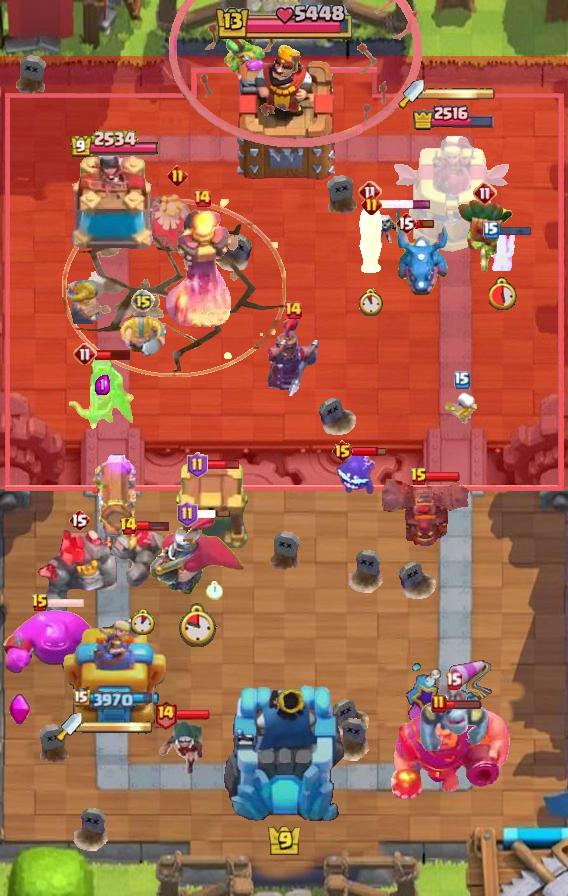archer-evolution: (382, 479, 476, 549)
bar: (391, 132, 515, 256), (61, 615, 166, 731)
barbarian-hut: (66, 357, 138, 431)
battle-healer: (91, 454, 137, 558)
bomb: (175, 463, 253, 551)
cannoneer-tower: (34, 526, 124, 628)
clock: (213, 5, 355, 43)
clone: (0, 608, 110, 682)
electro-dragon: (163, 208, 241, 334)
electro-spirit: (94, 375, 109, 395)
elixir: (179, 603, 217, 647), (490, 278, 518, 310), (356, 288, 383, 317), (131, 609, 155, 635), (206, 581, 223, 599)
elixir-golem-big: (266, 315, 320, 401)
elixir-golem-small: (416, 683, 490, 751)
emote: (380, 199, 433, 210), (95, 347, 132, 360), (47, 597, 84, 609), (425, 471, 461, 483), (175, 709, 211, 721), (497, 224, 532, 236), (352, 445, 387, 457), (445, 698, 482, 709), (204, 458, 240, 469), (136, 520, 169, 532), (195, 509, 231, 519), (415, 218, 435, 230)
executioner: (354, 202, 386, 276)
giant-snowball: (217, 34, 265, 78)
goblin-barrel: (455, 197, 515, 273)
goblin-giant: (119, 315, 167, 357), (65, 279, 101, 326)
graveyard: (393, 223, 451, 297)
guard: (62, 199, 286, 378)
heal-spirit: (489, 229, 517, 271), (371, 205, 400, 245), (445, 391, 479, 425)
king-tower: (221, 682, 347, 826), (230, 43, 338, 181)
king-tower-bar: (424, 87, 496, 101), (82, 720, 154, 734)
lightning: (388, 703, 511, 803)
mortar-evolution: (146, 189, 208, 249)
queen-tower: (68, 156, 160, 256)
selected: (68, 129, 159, 158), (411, 103, 495, 131), (73, 687, 155, 709)
skeleton-barrel: (169, 0, 424, 148)
skeleton-king-skill: (8, 693, 32, 728)
spear-goblin: (333, 451, 375, 497)
tesla: (159, 720, 207, 776)
text: (154, 699, 179, 729), (358, 180, 382, 204), (473, 181, 497, 205), (131, 289, 155, 313), (73, 342, 97, 366), (331, 439, 354, 463), (188, 452, 209, 478), (178, 501, 199, 527), (395, 211, 417, 235), (68, 508, 90, 532), (167, 166, 188, 187), (362, 194, 383, 215), (192, 188, 212, 208), (283, 300, 303, 320), (118, 516, 138, 536), (410, 467, 428, 487), (31, 593, 49, 613), (446, 671, 463, 690), (431, 694, 447, 714), (483, 221, 499, 239), (454, 371, 470, 389)
valkyrie-evolution: (111, 523, 175, 591)
wall-breaker-evolution: (149, 513, 247, 599)
